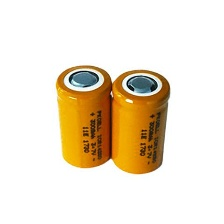battery: (106, 61, 172, 176), (55, 60, 116, 172)
